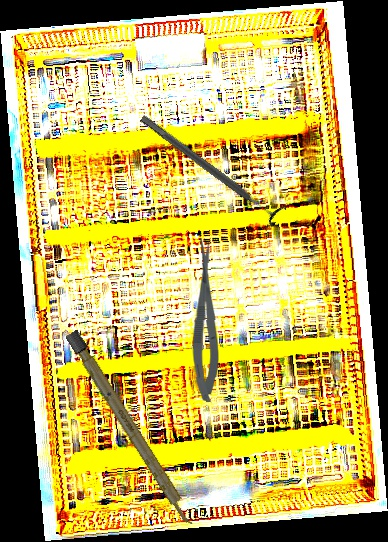Fixation Ring: (134, 106, 288, 229)
Micro Scissor: (191, 238, 222, 402)
Scalpel Handle: (65, 329, 197, 529)
